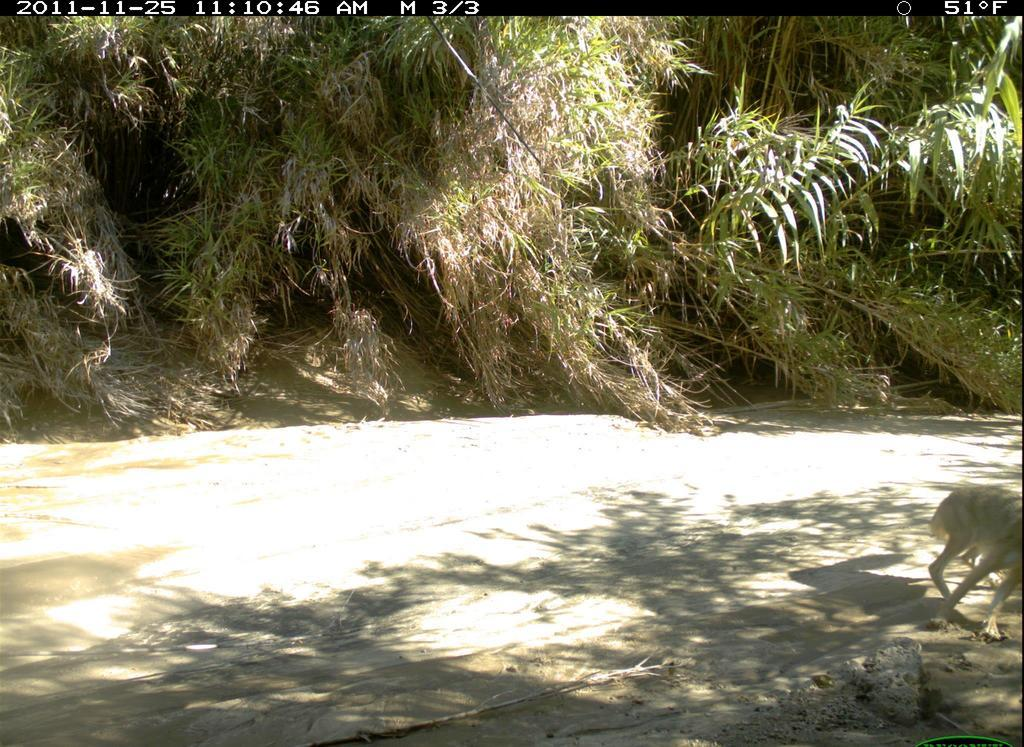coyote: (929, 477, 1023, 643)
